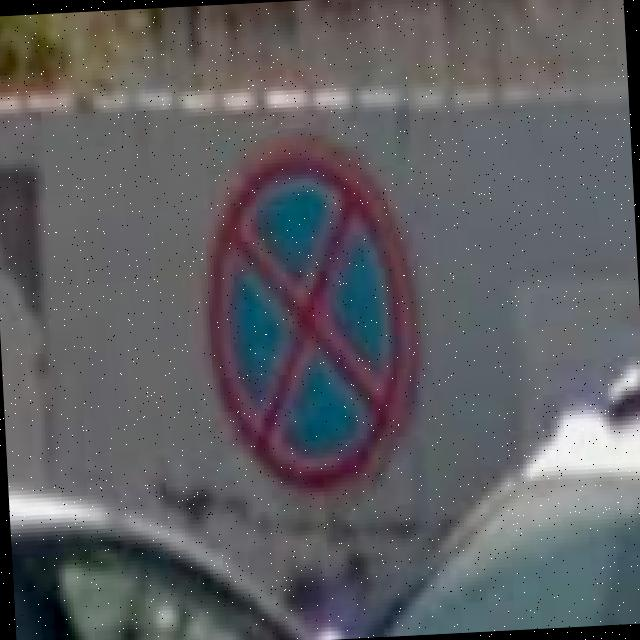Zakaz zatrzymywania sie: (198, 140, 426, 498)
